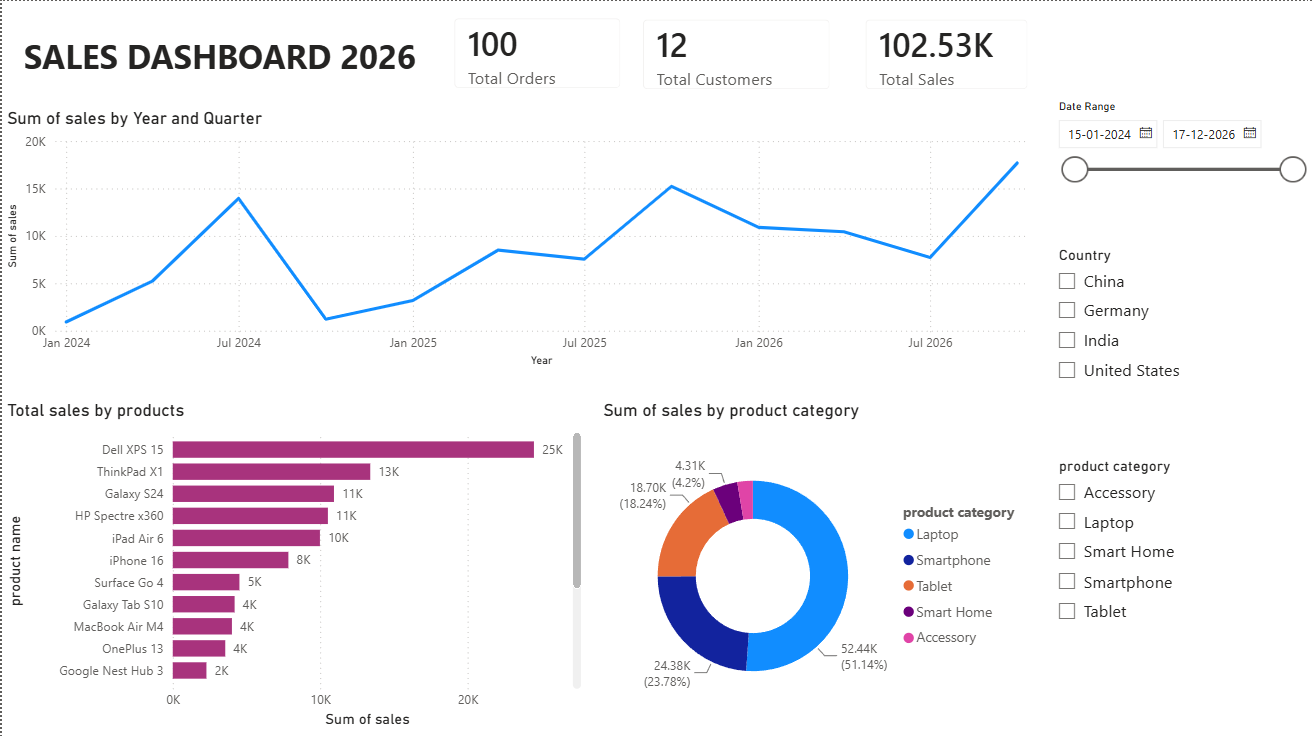

Layout of this report page (visuals, bound fields, positions):
{"tool":"powerbi","page":{"name":"Page 1","canvas":[1280,720],"ordinal":0},"visuals":[{"type":"barChart","title":"Total sales by products","fields":{"Category":["orders.product_name"],"Y":["Sum(orders.sales)"]},"box":[0,389.1,570.2,325],"z":0},{"type":"donutChart","fields":{"Y":["Sum(orders.sales)"],"Category":["orders.product_category"]},"box":[581.6,389.1,426.2,325],"z":1000},{"type":"cardVisual","fields":{"Data":["CountNonNull(orders.order_id)"]},"box":[424.8,0,196.7,102.6],"z":2000},{"type":"cardVisual","fields":{"Data":["Count(orders.customer_id)"]},"box":[608.6,1.4,216.7,102.6],"z":3000},{"type":"cardVisual","fields":{"Data":["Sum(orders.sales)"]},"box":[825.3,1.4,192.4,102.6],"z":4000},{"type":"lineChart","fields":{"Y":["Sum(orders.sales)"],"Category":["orders.order_date.Variation.Date Hierarchy.Year","orders.order_date.Variation.Date Hierarchy.Quarter","orders.order_date.Variation.Date Hierarchy.Month","orders.order_date.Variation.Date Hierarchy.Day"]},"box":[0,104.1,1017.7,258],"z":5000},{"type":"slicer","fields":{"Values":["customers.country"]},"box":[1017.7,233.8,262.3,178.2],"z":6000},{"type":"slicer","fields":{"Values":["orders.product_category"]},"box":[1017.7,440.4,262.3,182.4],"z":7000},{"type":"slicer","fields":{"Values":["orders.order_date"]},"box":[1017.7,91.2,262.3,129.7],"z":8000},{"type":"textbox","box":[0,27.1,424.8,75.5],"z":9000}]}

Visuals, with their boxes in screenshot pixels (x1, y1, x2, y2), scaled from the page's 1280x720 canvas onto the 1312x737 screenshot:
"Total sales by products" barChart: 0,398,584,731
donutChart - Sum(orders.sales) x orders.product_category: 596,398,1033,731
cardVisual - CountNonNull(orders.order_id): 435,0,637,105
cardVisual - Count(orders.customer_id): 624,1,846,106
cardVisual - Sum(orders.sales): 846,1,1043,106
lineChart - Sum(orders.sales) x orders.order_date.Variation.Date Hierarchy.Year: 0,107,1043,371
slicer - customers.country: 1043,239,1311,422
slicer - orders.product_category: 1043,451,1311,638
slicer - orders.order_date: 1043,93,1311,226
textbox: 0,28,435,105
